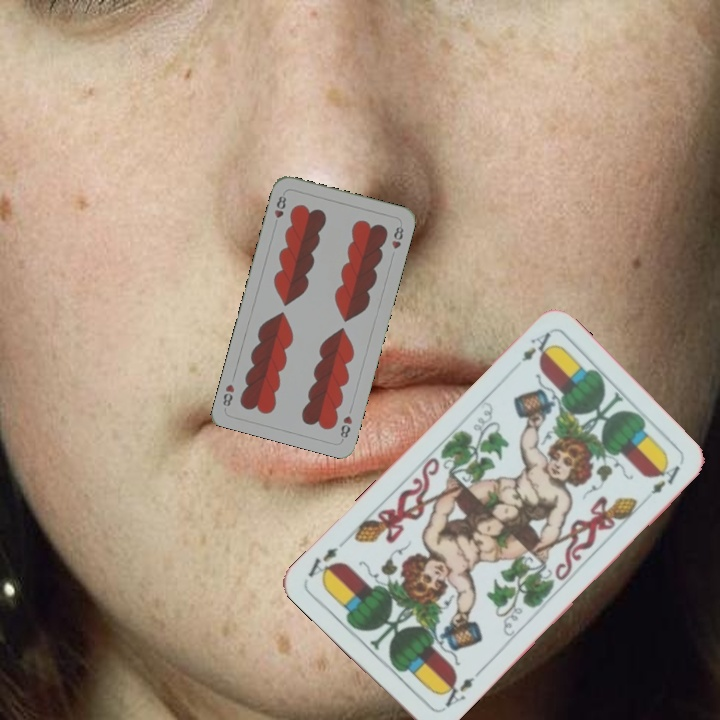EA: (436, 666, 483, 714), (517, 327, 556, 364)
H8: (270, 192, 289, 229), (336, 411, 355, 443)
